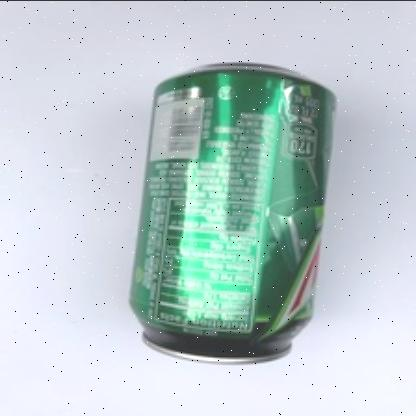Can: (127, 62, 337, 366)
